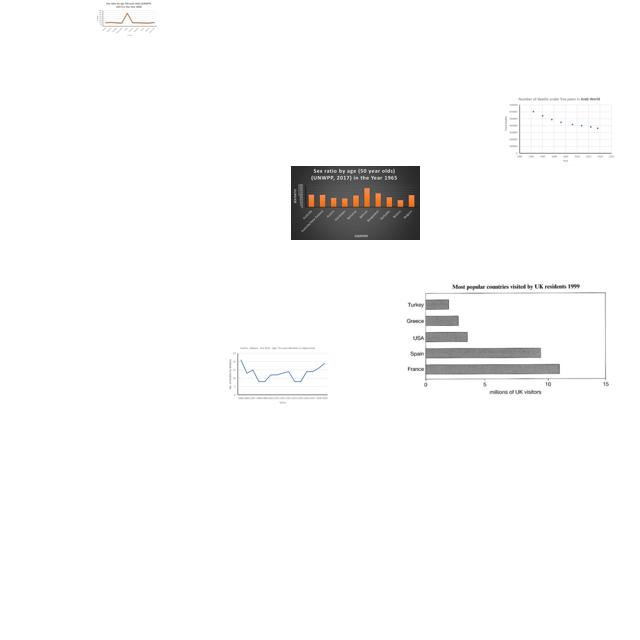Graph: (403, 283, 612, 398), (291, 166, 420, 240), (502, 95, 617, 166), (226, 345, 329, 405), (95, 1, 158, 37)
